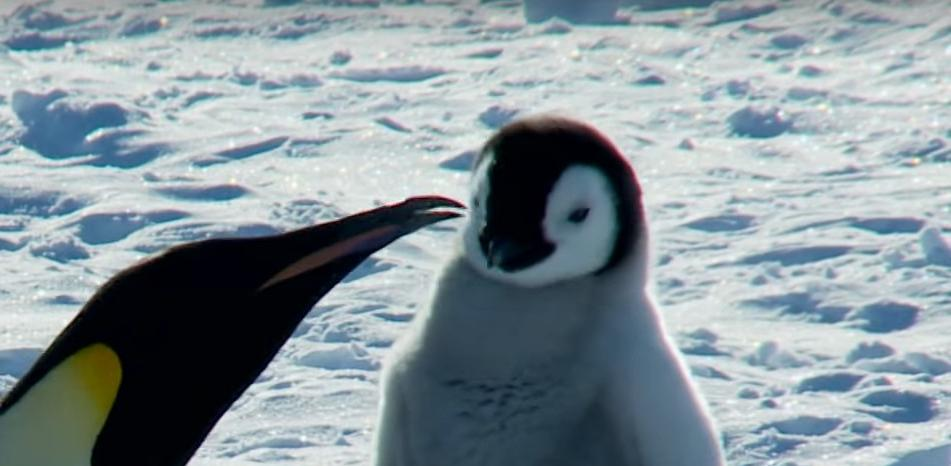Emperor Penguin: (0, 165, 465, 466)
